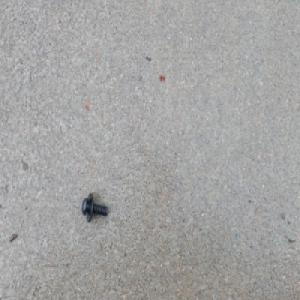BoltWasher: (81, 191, 107, 221)
